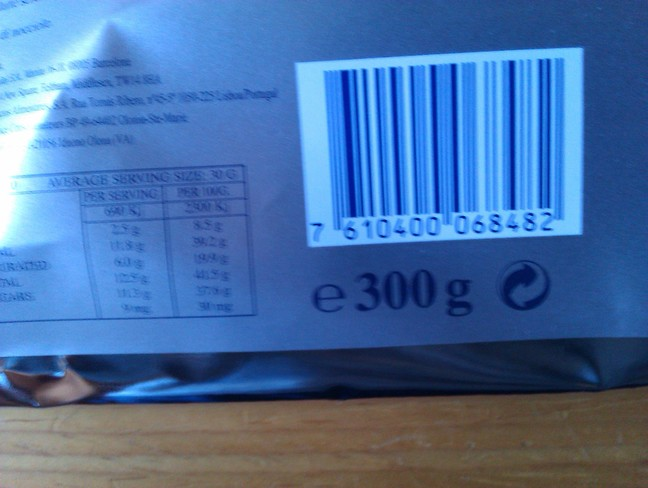barcode: (289, 49, 588, 240)
